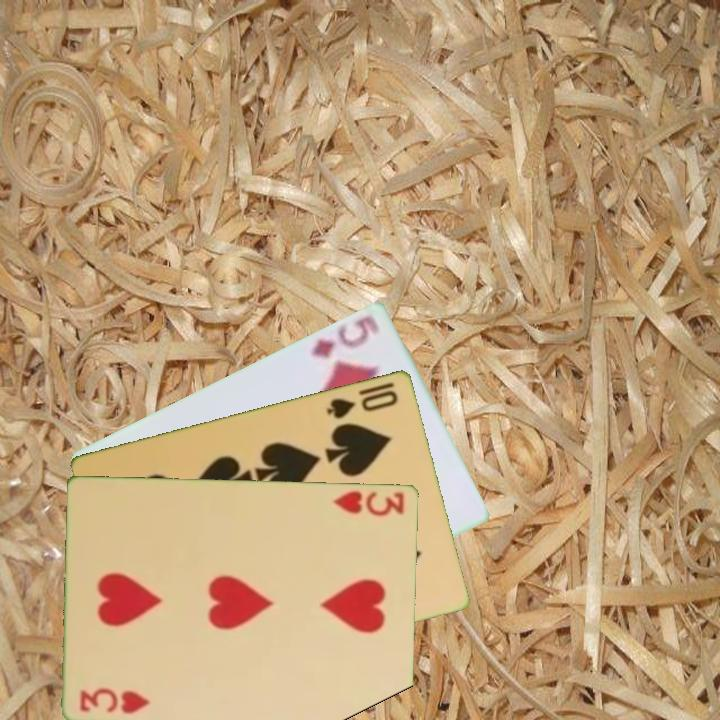10s: (323, 386, 401, 422)
3h: (76, 685, 153, 717), (330, 487, 407, 518)
5d: (307, 311, 383, 361)
